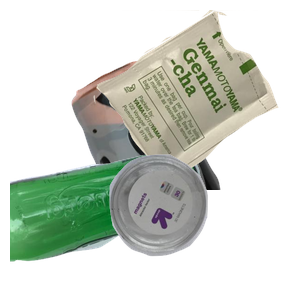glass: (10, 149, 203, 300)
metal: (69, 58, 300, 238)
plastic: (107, 152, 300, 300)
trash: (91, 10, 300, 186)
